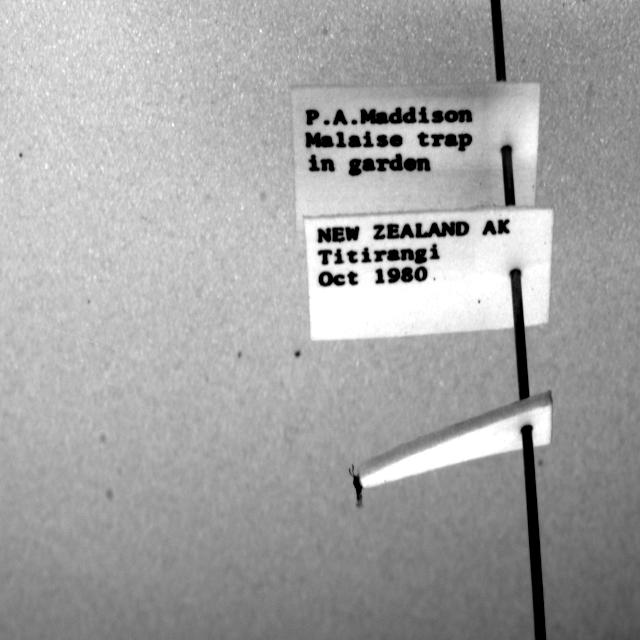typed_label: (291, 82, 540, 231), (305, 206, 554, 339)
